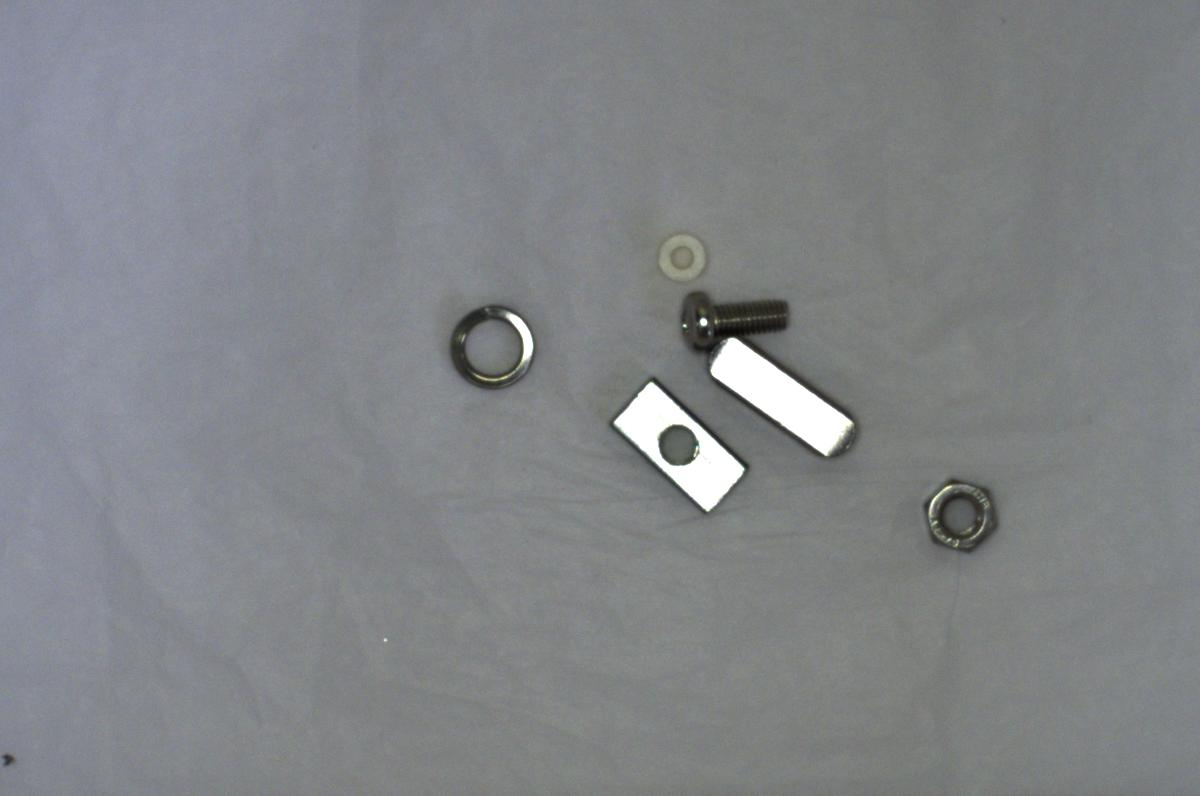Hexagon nut: (910, 475, 998, 559)
Keybar: (704, 335, 864, 466)
Plastic cushion pillar: (652, 226, 711, 285)
Rectangular nut: (600, 375, 755, 521)
Round head screw: (671, 285, 808, 356)
Spring washer: (437, 296, 537, 399)
